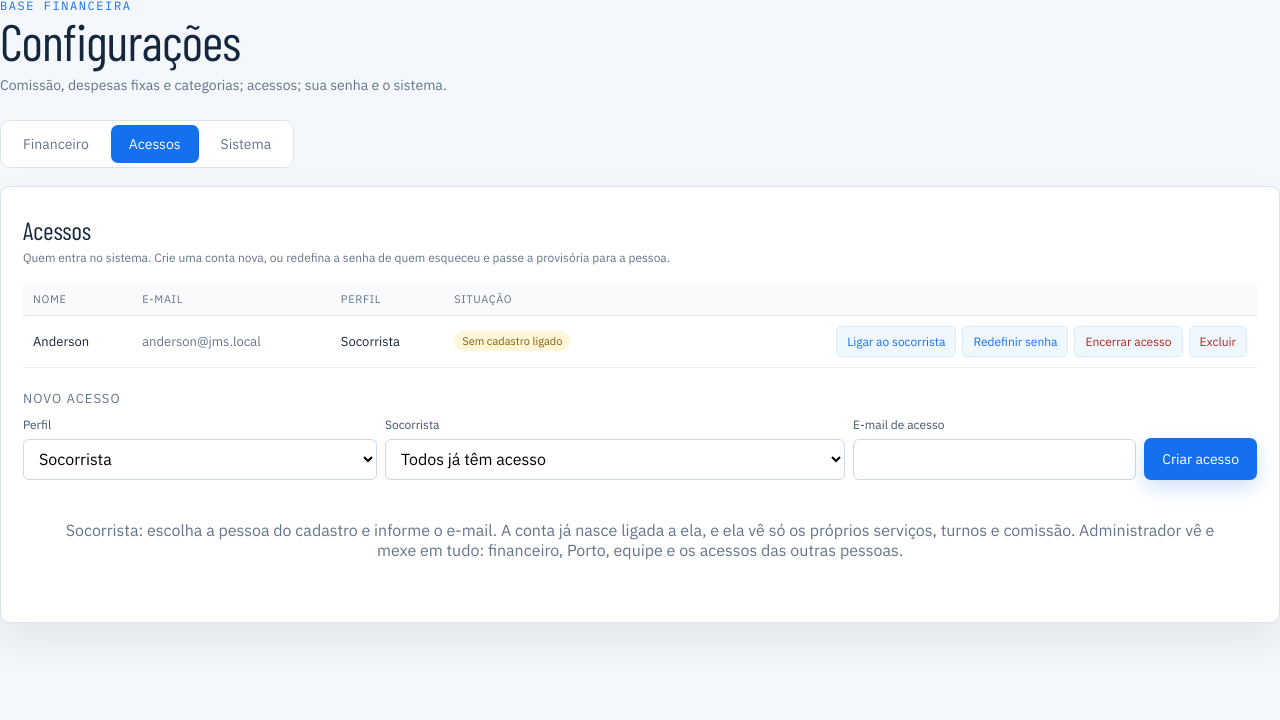
Scenario: excluir quem já lançou algo explica e aponta o encerramento
What coordinates should you click on to do the following:
click the button "Excluir"
I would click on:
 (1218, 341)
Its box is [1188,326,1247,357].
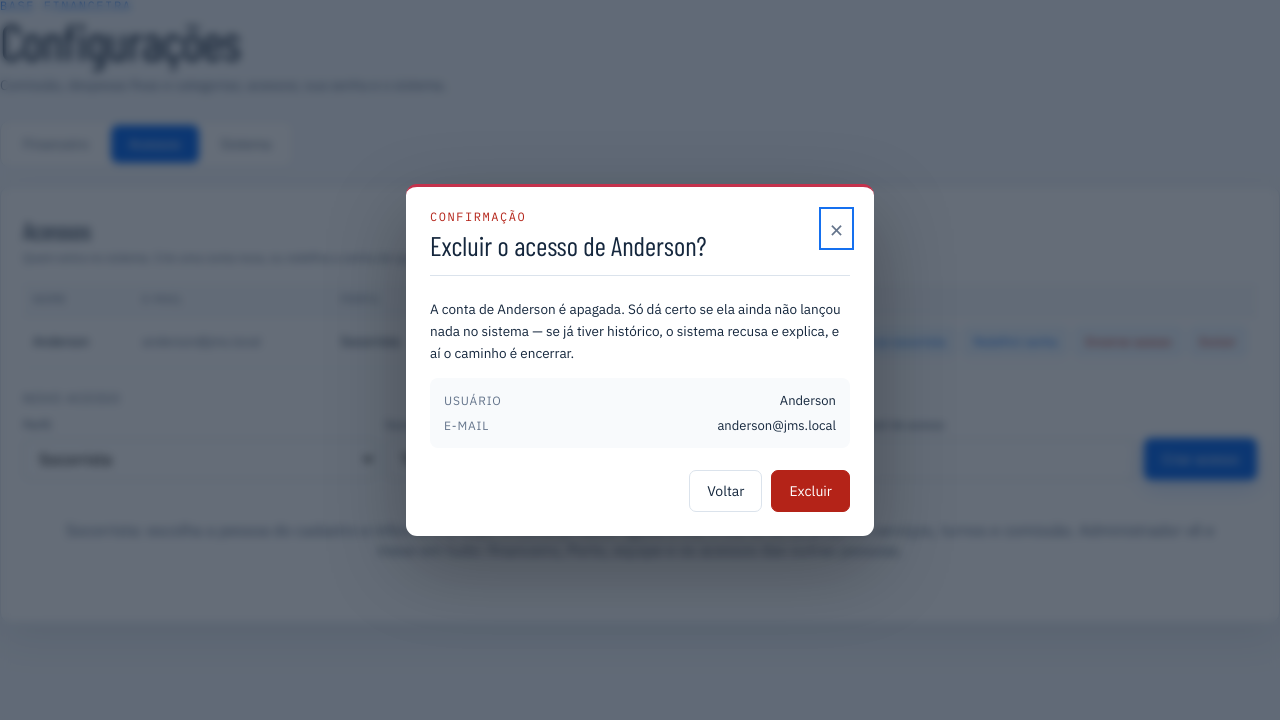
What coordinates should you click on to do the following:
click the button "Excluir"
I would click on:
 (811, 491)
Its box is [772,470,850,512].
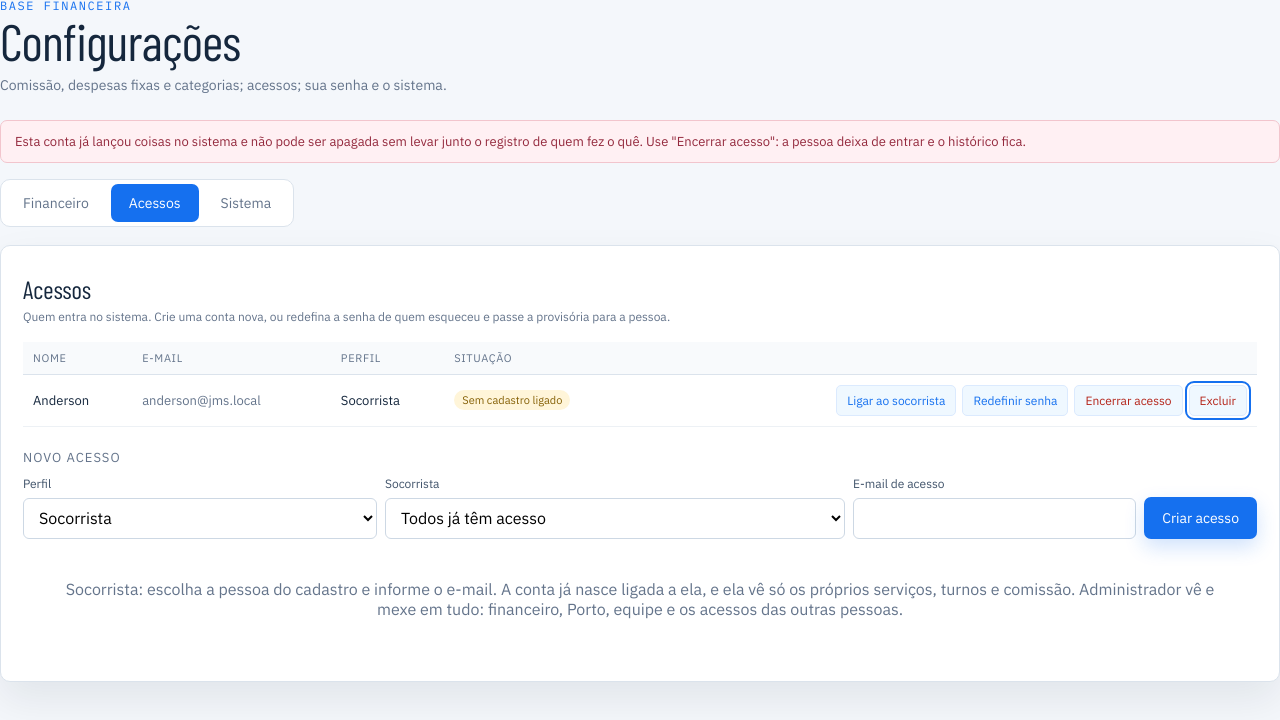
Expected: the text "use \"encerrar acesso\"" is shown, [15,133,1026,150]
